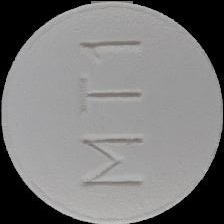51079-169: (0, 0, 224, 224)
